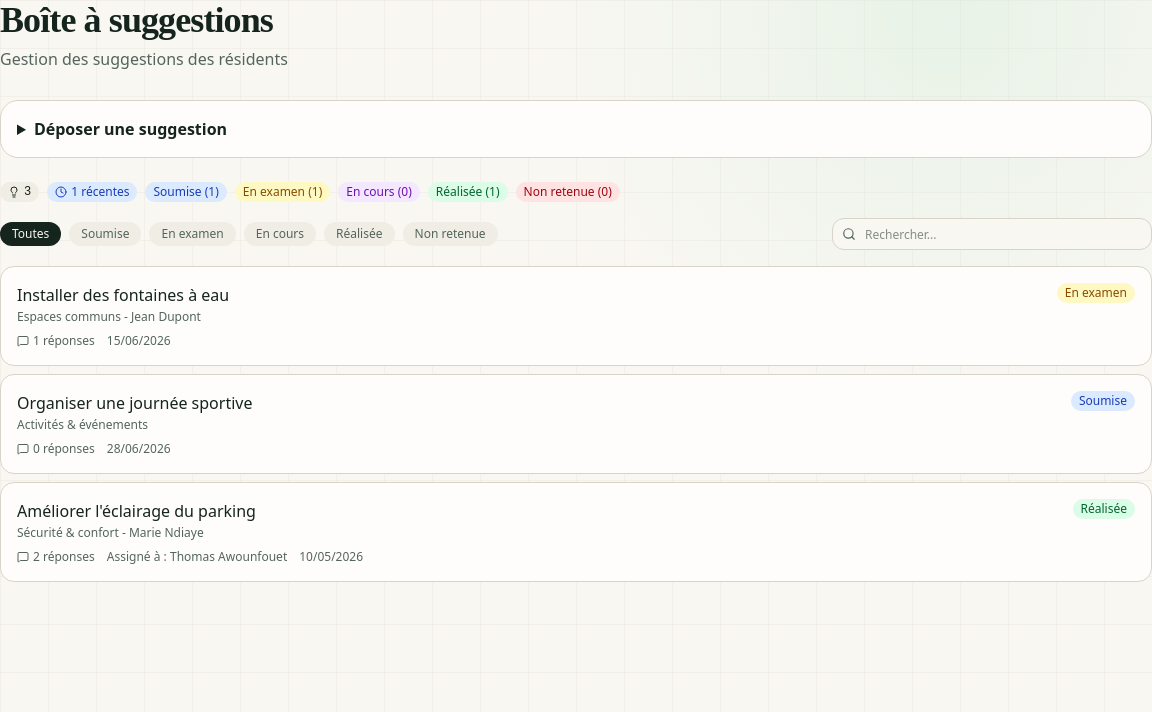
it: operations and suggestions control planes › exposes an accessible suggestion submission workflow
This screenshot has width=1152, height=712.
Expected: the text "Installer des fontaines à eau" is shown, [17, 284, 229, 306]
Click the heading "Déposer une suggestion" at (130, 129), box [34, 118, 227, 140]
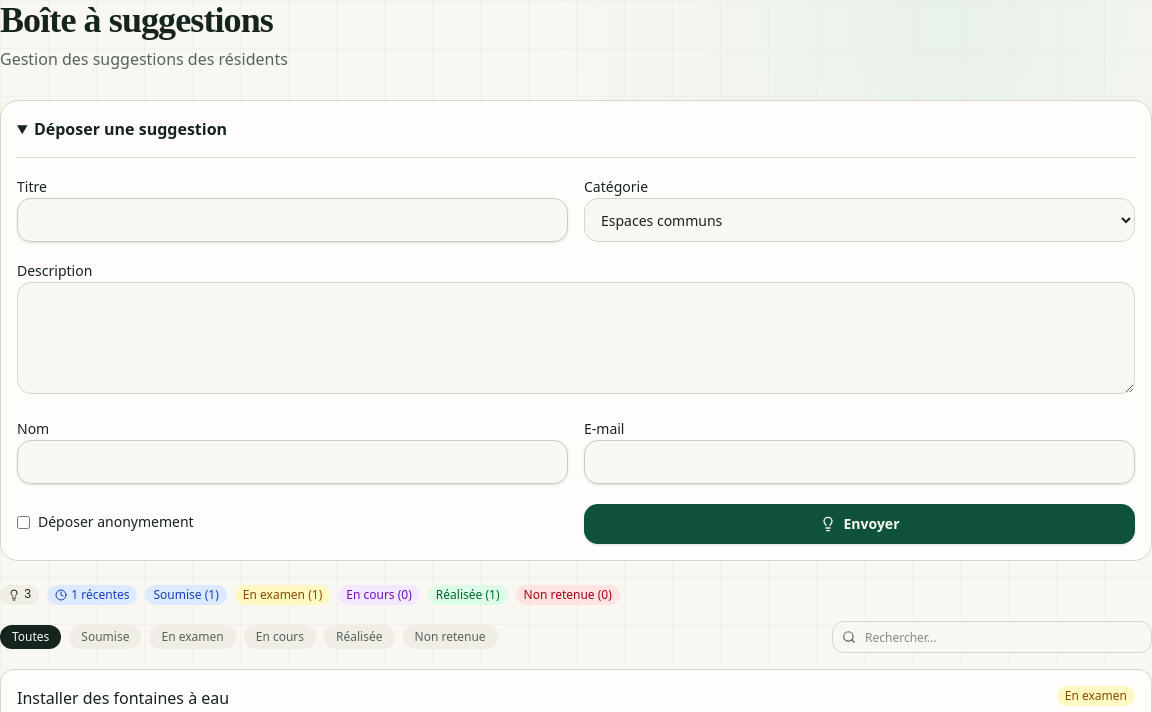
Now the field labelled "Titre" is shown, box [17, 198, 568, 242]
Now the dropdown labelled "Catégorie" is shown, box [584, 198, 1135, 242]
Now the button "Envoyer" is shown, box [584, 504, 1135, 544]
